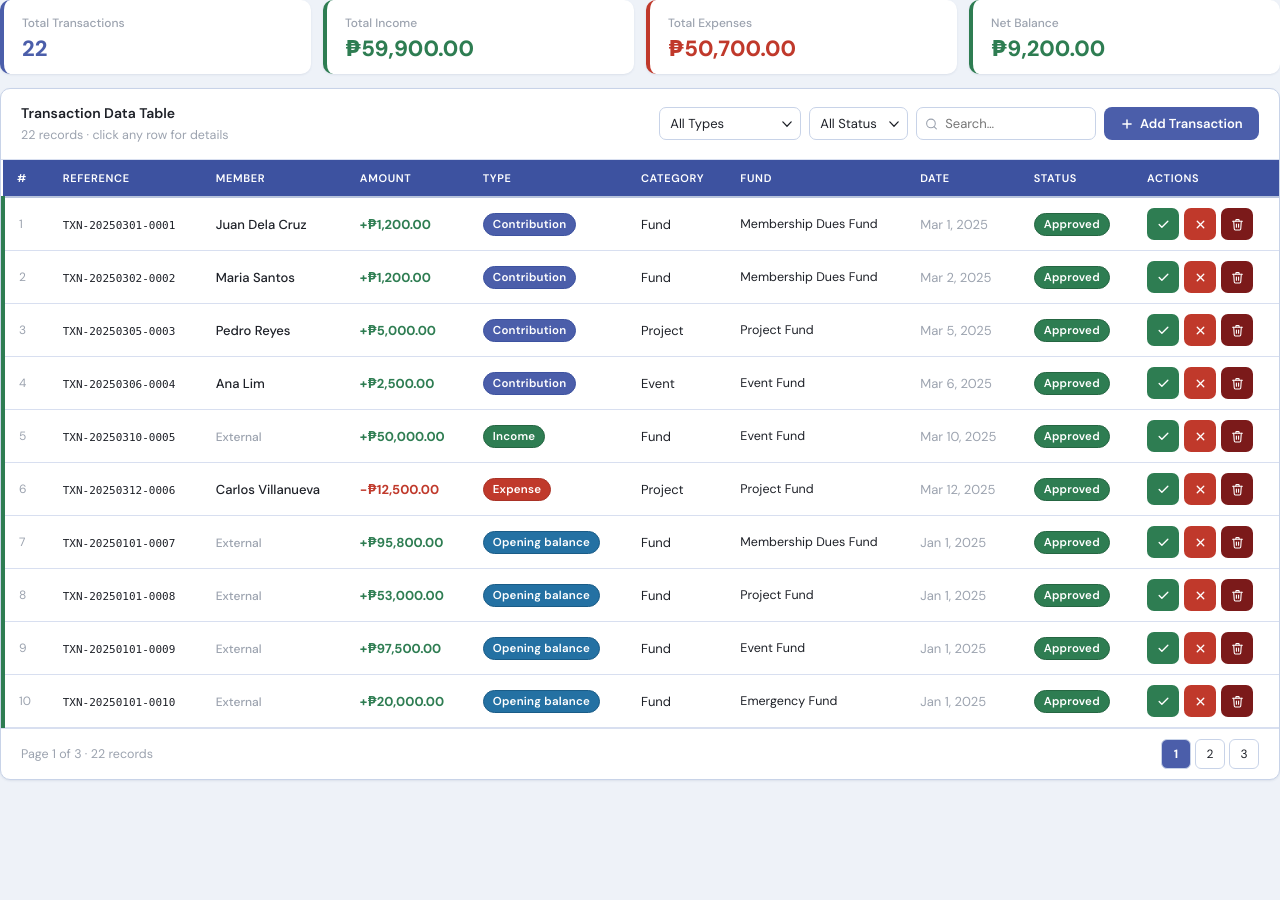
Test: payment methods by id › Transactions: the receipt shows the method NAME (not the id)
Expected: the text "GCash" is not shown
Click the text "TXN-20250301-0001": (119, 225) [63, 218, 175, 232]
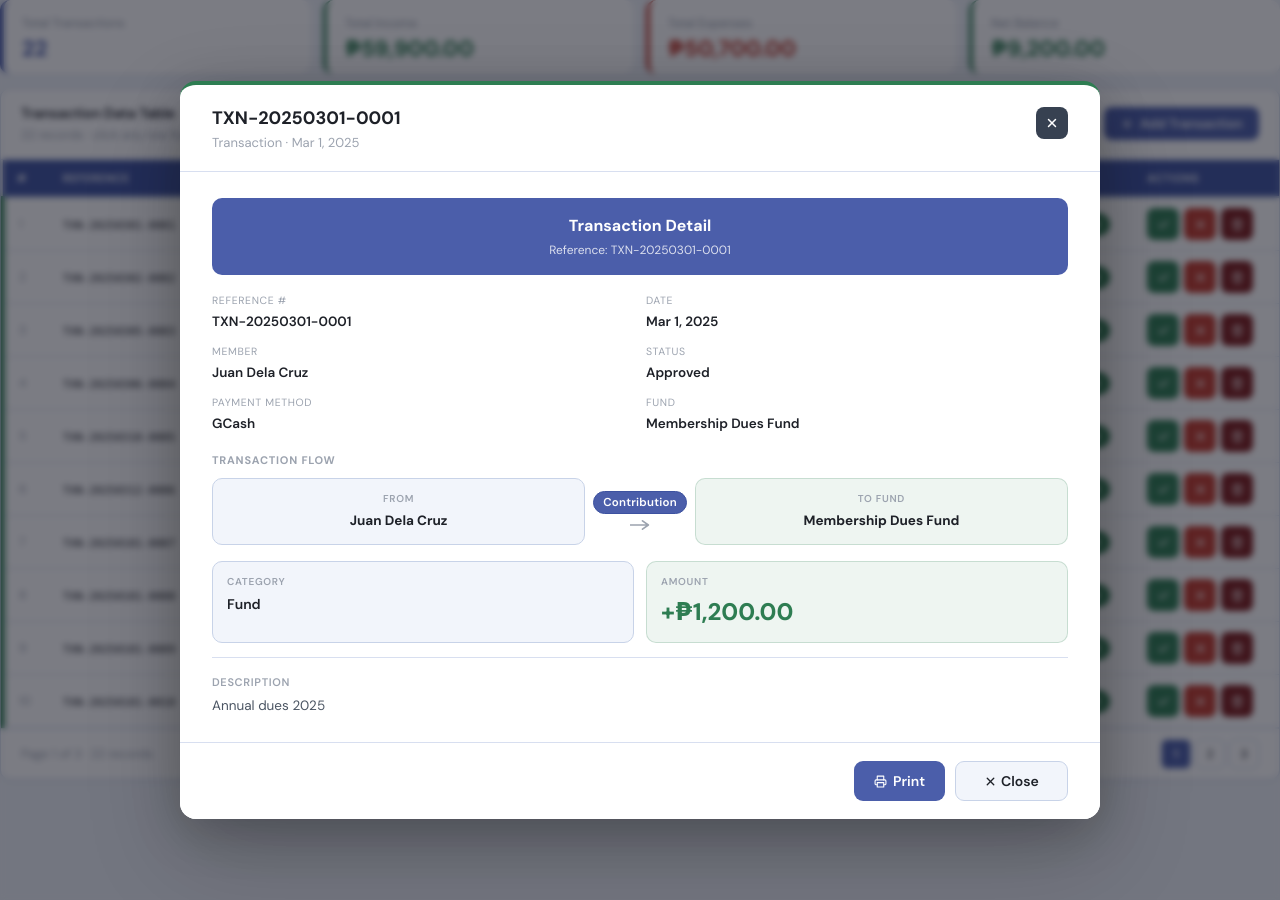
Now the text "GCash" is shown, box [212, 415, 255, 432]
